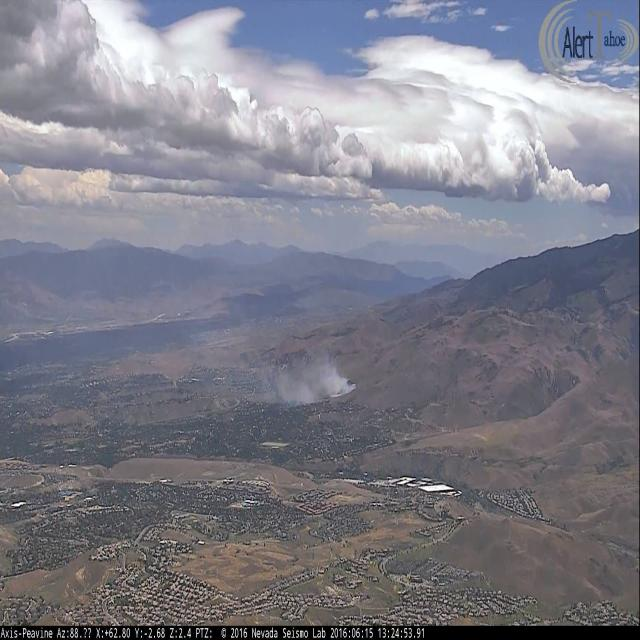smoke: (271, 353, 356, 407)
